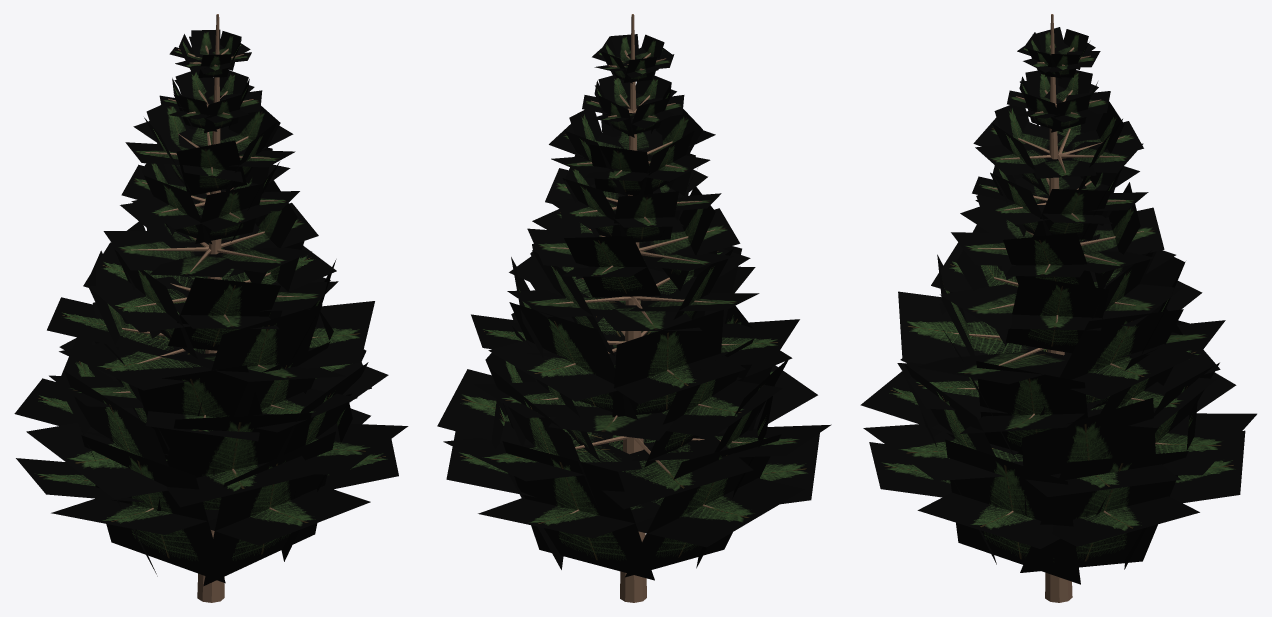
Rendered from ponderosa-1.glb.
3 renders of one model, left to right at view 1: azimuth 30°, elevation 25°; view 2: azimuth 150°, elevation 25°; view 3: azimuth 270°, elevation 25°, orthographic.
Visible parts, largest first — view 1: Pine needle spray.137, Pine needle spray.127, Pine needle spray.129, Pine needle spray.145, Pine needle spray.175, Pine needle spray.167, Pine needle spray.134, Pine needle spray.128, Pine needle spray.164, Pine needle spray.156, Pine needle spray.162, Pine needle spray.135 (+50 smaller); view 2: Pine needle spray.123, Pine needle spray.163, Pine needle spray.125, Pine needle spray.124, Pine needle spray.132, Pine needle spray.161, Pine needle spray.191, Pine needle spray.142, Pine needle spray.122, Pine needle spray.140, Pine needle spray.160, Pine needle spray.154 (+50 smaller); view 3: Pine needle spray.131, Pine needle spray.121, Pine needle spray.141, Pine needle spray.166, Pine needle spray.149, Pine needle spray.179, Pine needle spray.159, Pine needle spray.138, Pine needle spray.142, Pine needle spray.130, Pine needle spray.120, Pine needle spray.156 (+51 smaller).
Boxes of the visible parts, <box> form: Pine needle spray.137: <box>157,412,311,510</box>; Pine needle spray.127: <box>81,435,225,583</box>; Pine needle spray.129: <box>203,431,335,586</box>; Pine needle spray.145: <box>137,365,262,459</box>; Pine needle spray.175: <box>168,277,280,350</box>; Pine needle spray.167: <box>197,304,322,415</box>; Pine needle spray.134: <box>26,423,167,499</box>; Pine needle spray.128: <box>208,489,370,545</box>; Pine needle spray.164: <box>59,343,211,390</box>; Pine needle spray.156: <box>280,301,374,368</box>; Pine needle spray.162: <box>47,297,187,361</box>; Pine needle spray.135: <box>64,371,168,466</box>; Pine needle spray.123: <box>502,441,654,580</box>; Pine needle spray.163: <box>612,309,723,417</box>; Pine needle spray.125: <box>625,434,781,577</box>; Pine needle spray.124: <box>635,478,805,547</box>; Pine needle spray.132: <box>602,436,753,509</box>; Pine needle spray.161: <box>509,302,637,419</box>; Pine needle spray.191: <box>564,236,660,297</box>; Pine needle spray.142: <box>443,437,641,481</box>; Pine needle spray.122: <box>478,498,659,538</box>; Pine needle spray.140: <box>437,369,613,445</box>; Pine needle spray.160: <box>488,340,616,401</box>; Pine needle spray.154: <box>662,380,783,437</box>; Pine needle spray.131: <box>945,439,1080,584</box>; Pine needle spray.121: <box>1020,451,1188,572</box>; Pine needle spray.141: <box>1022,397,1155,516</box>; Pine needle spray.166: <box>898,291,1037,364</box>; Pine needle spray.149: <box>976,361,1087,454</box>; Pine needle spray.179: <box>1005,276,1108,353</box>; Pine needle spray.159: <box>1040,309,1183,415</box>; Pine needle spray.138: <box>863,424,1023,480</box>; Pine needle spray.142: <box>1155,413,1256,475</box>; Pine needle spray.130: <box>917,492,1060,548</box>; Pine needle spray.120: <box>1052,496,1199,546</box>; Pine needle spray.156: <box>915,351,1070,384</box>.
Size of the model in its own units: 7.36 by 12 by 7.4.
2 materials, 1 textured.
